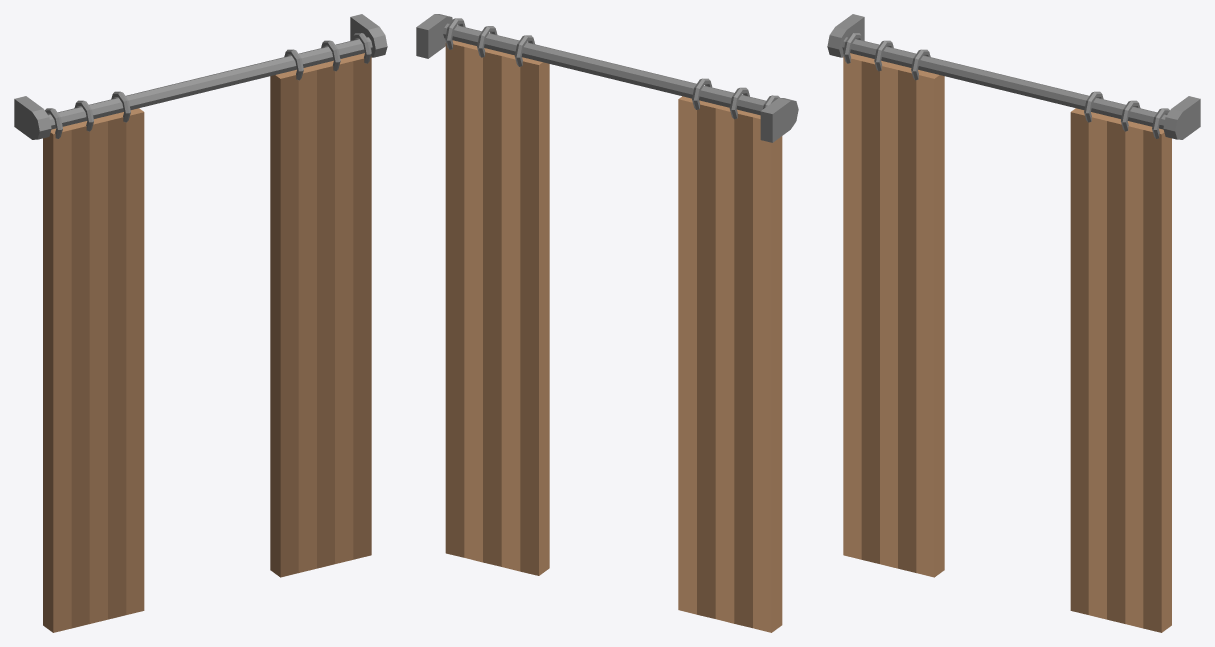
File: Curtains_01.fbx
3 renders of one model, left to right at view 1: azimuth 30°, elevation 25°; view 2: azimuth 150°, elevation 25°; view 3: azimuth 330°, elevation 25°, orthographic. The views are drawn at different scales.
Visible parts, largest first — view 1: Curtains_01; view 2: Curtains_01; view 3: Curtains_01.
Boxes of the visible parts, x1,y1,x2,y2 form: Curtains_01: [14, 14, 387, 632]; Curtains_01: [416, 14, 798, 632]; Curtains_01: [827, 14, 1200, 632].
Bounding box in the file's own units: 95.44 × 136 × 13.06.
